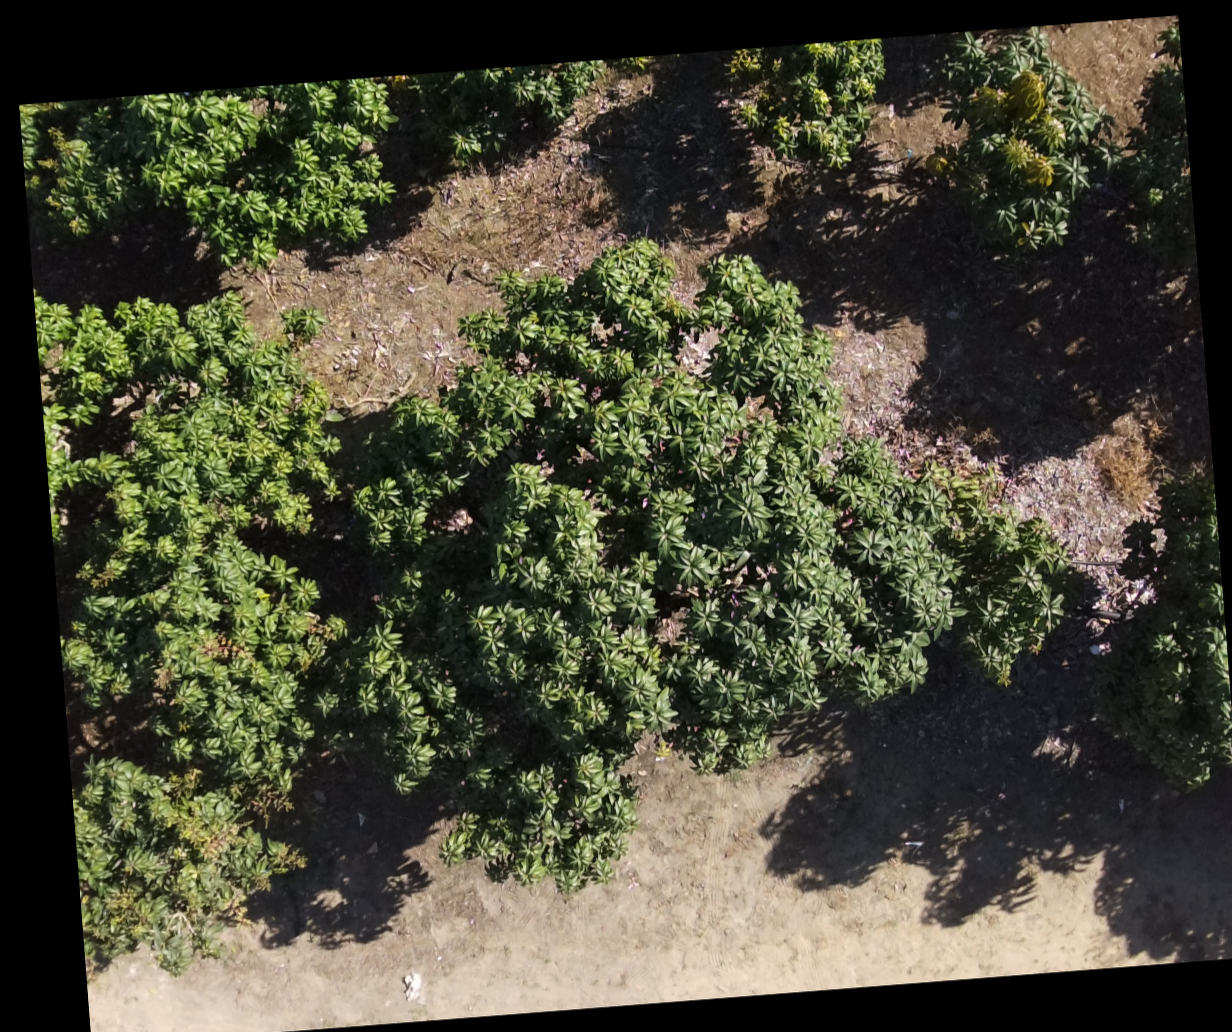flowers: (970, 72, 1063, 153), (179, 800, 261, 859), (1002, 136, 1053, 188), (249, 785, 292, 822), (264, 838, 304, 873), (202, 634, 244, 661), (40, 372, 54, 403), (381, 75, 409, 85)
